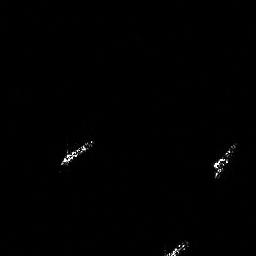ship: (211, 140, 240, 182), (59, 137, 95, 166)
